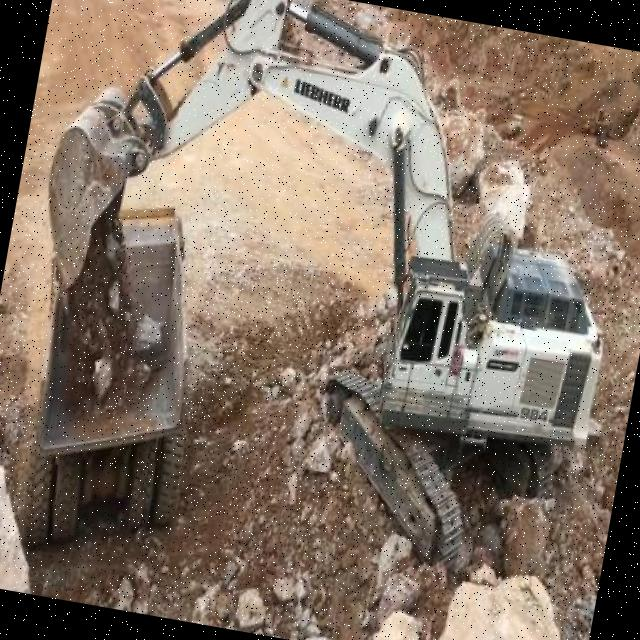Dump Truck: (0, 175, 235, 572)
Excavator: (0, 0, 640, 584)
